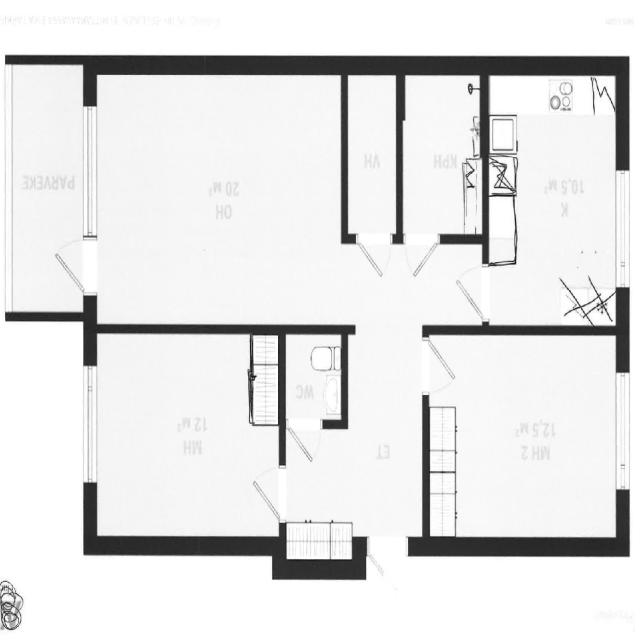door: (364, 534, 415, 598), (419, 332, 459, 400), (56, 233, 99, 296), (250, 461, 288, 522), (454, 259, 494, 316), (403, 227, 440, 277), (356, 230, 394, 278), (289, 418, 326, 462)
window: (608, 363, 636, 497), (76, 103, 102, 240), (76, 357, 102, 492), (609, 162, 635, 296)
zone: (90, 71, 345, 327), (90, 329, 286, 546), (428, 334, 620, 546), (487, 72, 618, 326), (400, 70, 486, 240), (283, 425, 359, 564), (348, 72, 399, 240), (284, 329, 344, 423)
